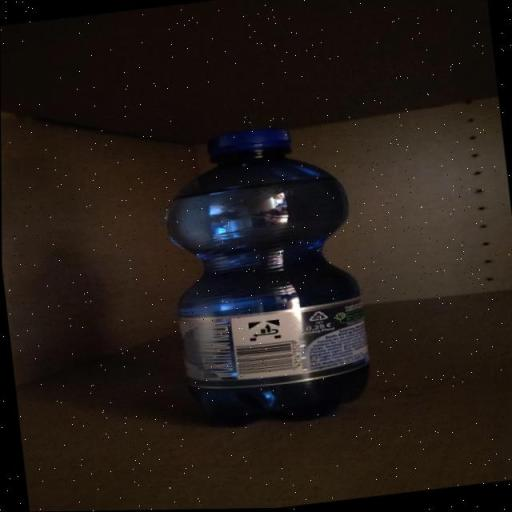plastic: (150, 116, 382, 434)
